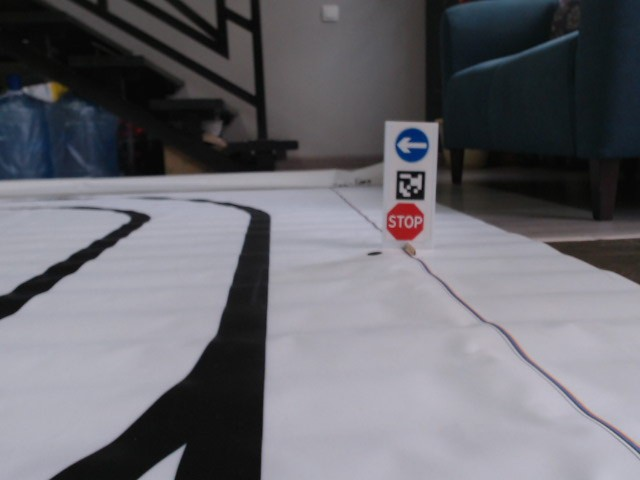Stop: (383, 201, 425, 242)
